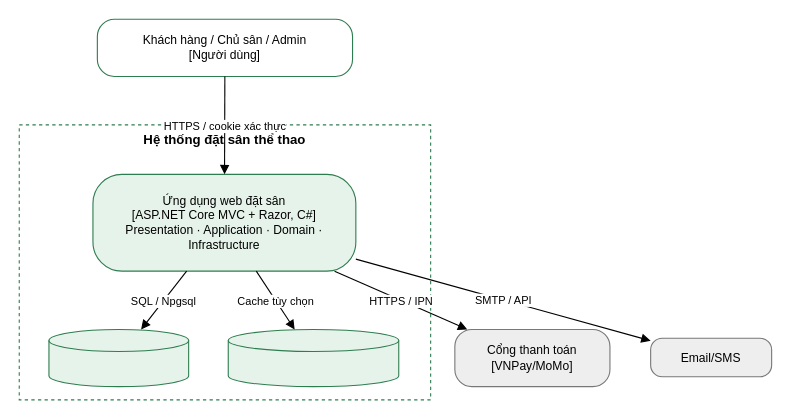
The diagram is 791 pixels wide and 419 high, and some of its shapes have lost their labels. The shapes that lost their labels are listed below. From the top down, each one's centre as x and y in pixels, then its label:
At (x=118, y=357): "Cơ sở dữ liệu [PostgreSQL]".
At (x=313, y=357): "Cache tùy chọn [Redis]".
